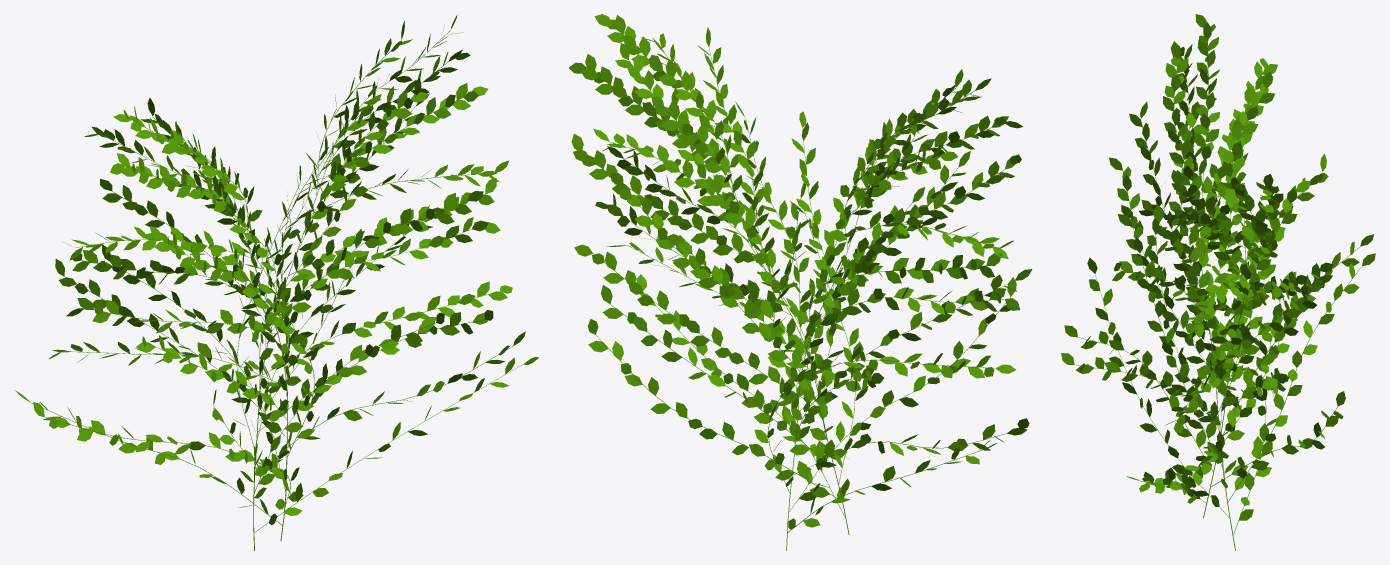
Rendered from Bush.glb.
3 views of the same model, side by side, from view 1: azimuth 30°, elevation 25°; view 2: azimuth 150°, elevation 25°; view 3: azimuth 270°, elevation 25° (orthographic). The views are drawn at different scales.
Visible parts, largest first — view 1: tree.001; view 2: tree.001; view 3: tree.001.
Part boxes in pixels (box(x1,y1,x2,y2)): tree.001: box(15, 15, 538, 550); tree.001: box(569, 14, 1032, 550); tree.001: box(1061, 14, 1375, 550).
Bounding box in the file's own units: 3.76 × 3.86 × 2.42.
